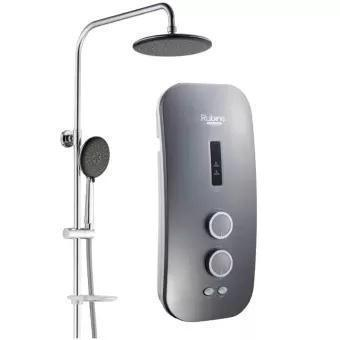Ducha: (50, 0, 274, 339)
